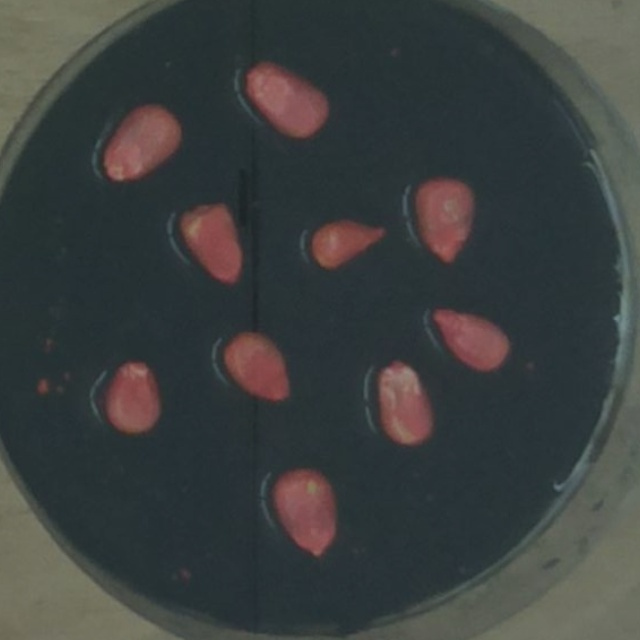Zea mays: (92, 93, 191, 188), (236, 53, 339, 144), (263, 460, 346, 564), (405, 167, 484, 270), (367, 352, 445, 453), (172, 192, 249, 290), (424, 299, 519, 377), (212, 322, 297, 408), (95, 352, 169, 441), (303, 209, 393, 278)
